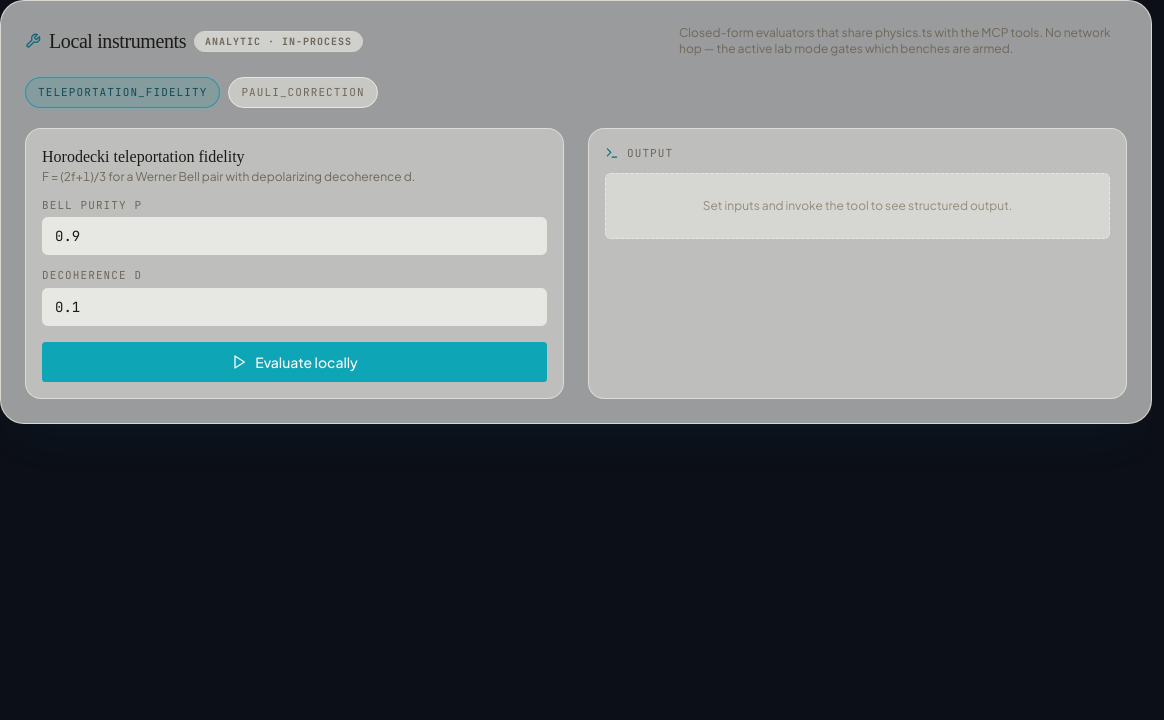
Mode-gated local benches › evaluates Horodecki fidelity locally from the teleportation instrument
Click the button "Evaluate locally" at (294, 362), box x1=42 y1=342 x2=547 y2=382
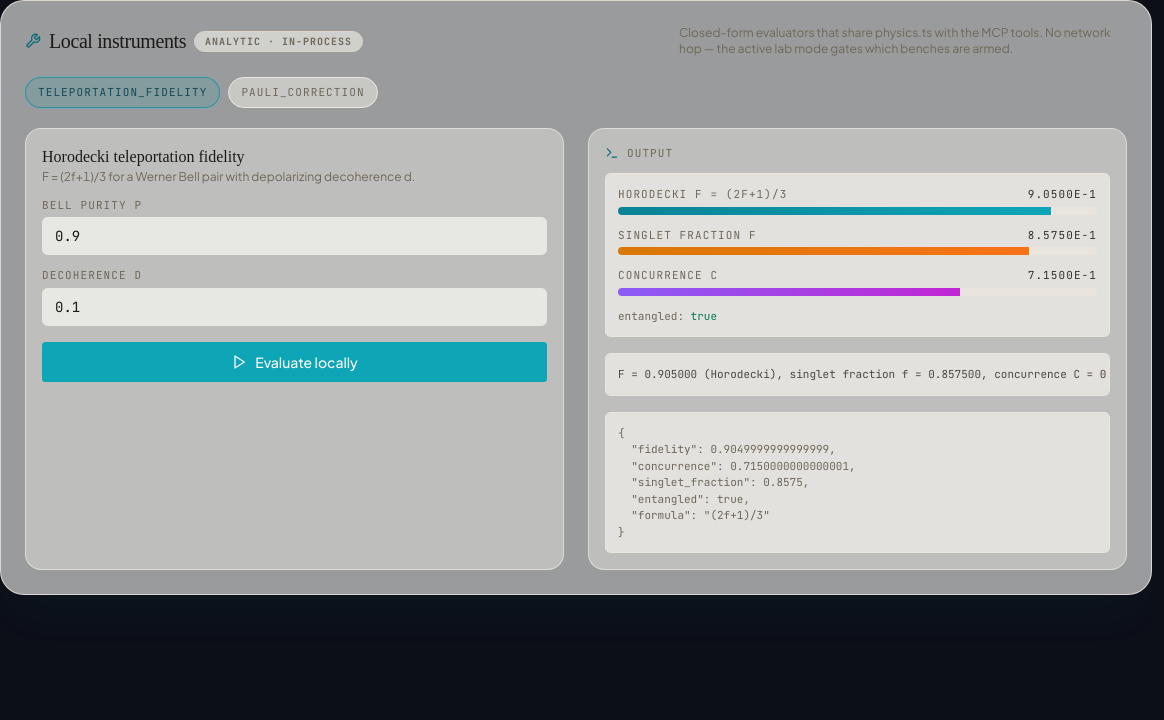
Expected: the text "Horodecki" is shown, x1=42 y1=148 x2=245 y2=164
Result: the text "singlet_fraction" is shown at x1=618 y1=426 x2=856 y2=538
